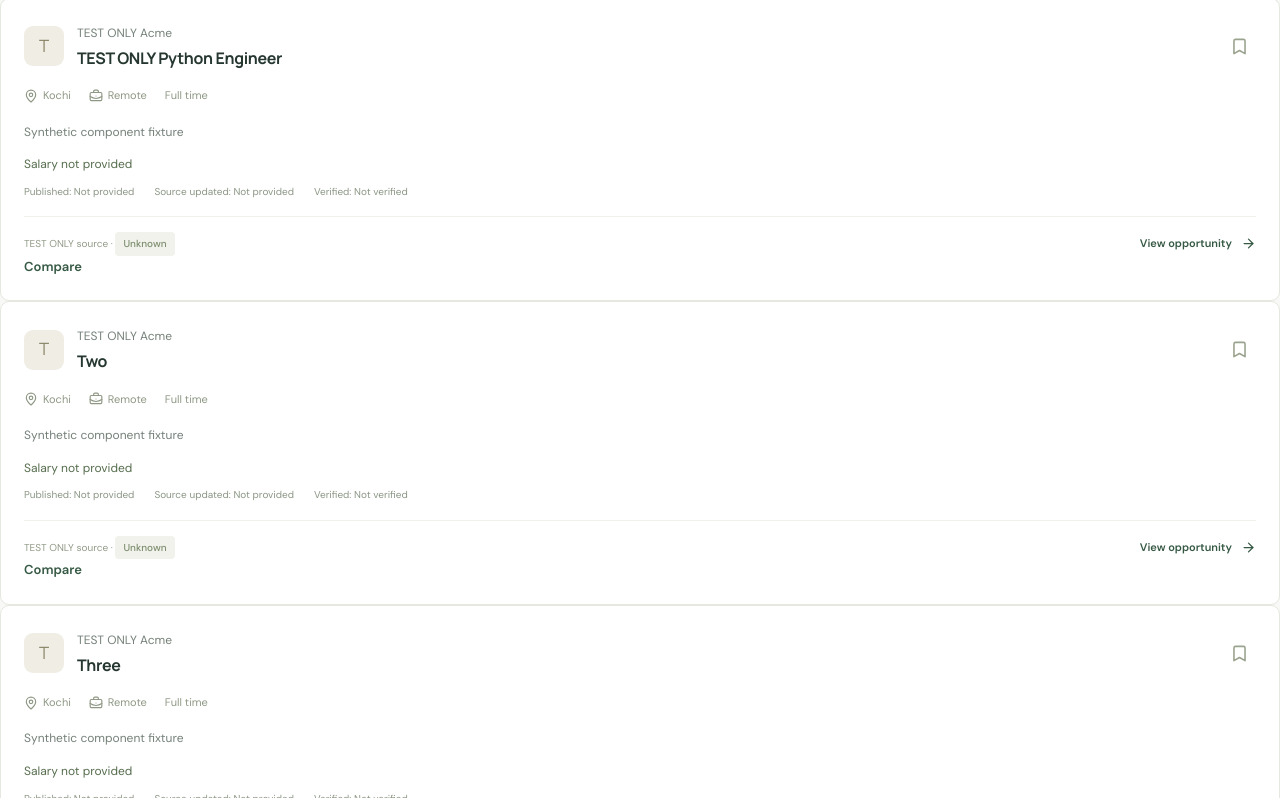
it: Phase 4 discovery with explicitly mocked HTTP › selects a bounded comparison and can clear it
Click the button "Compare" below "TEST ONLY Python Engineer".
click(53, 267)  # box [24, 257, 82, 277]
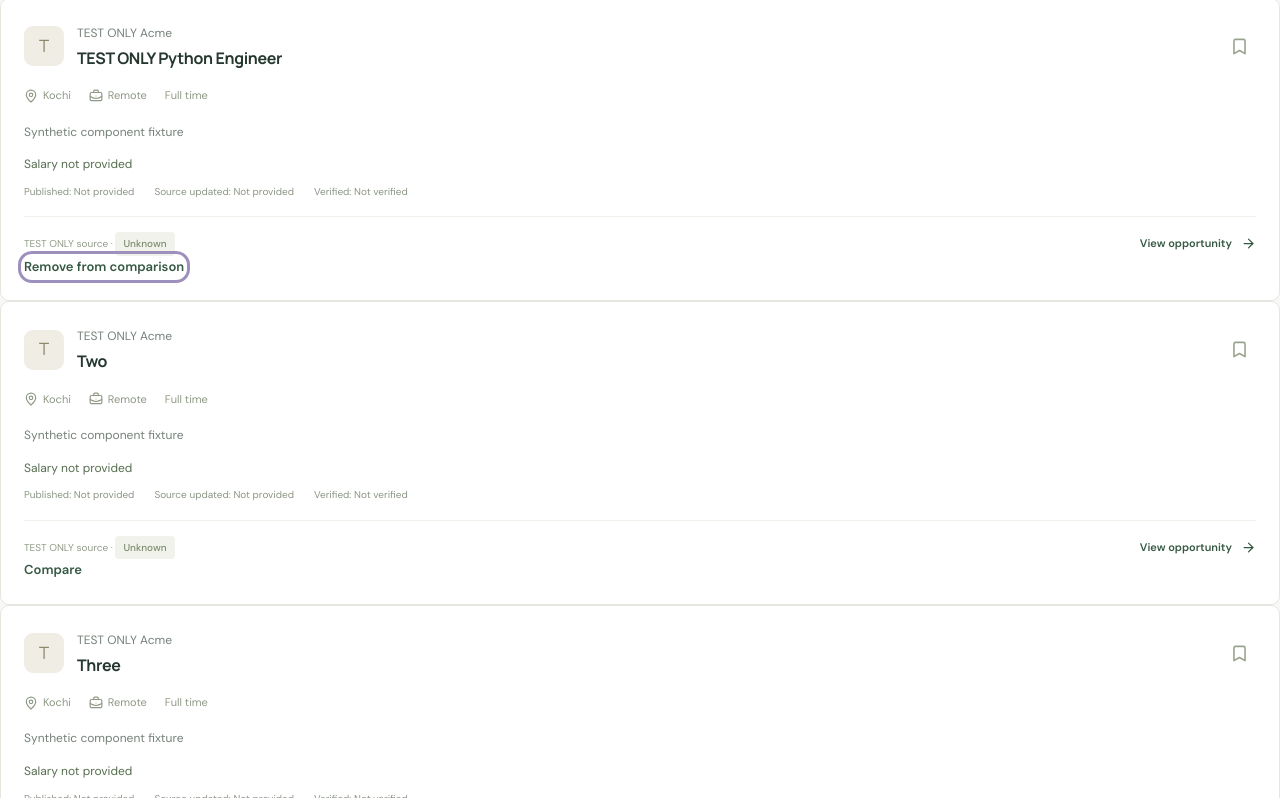
Click the button named "Compare Two".
click(53, 570)  # box [24, 560, 82, 580]
(page scrolled)
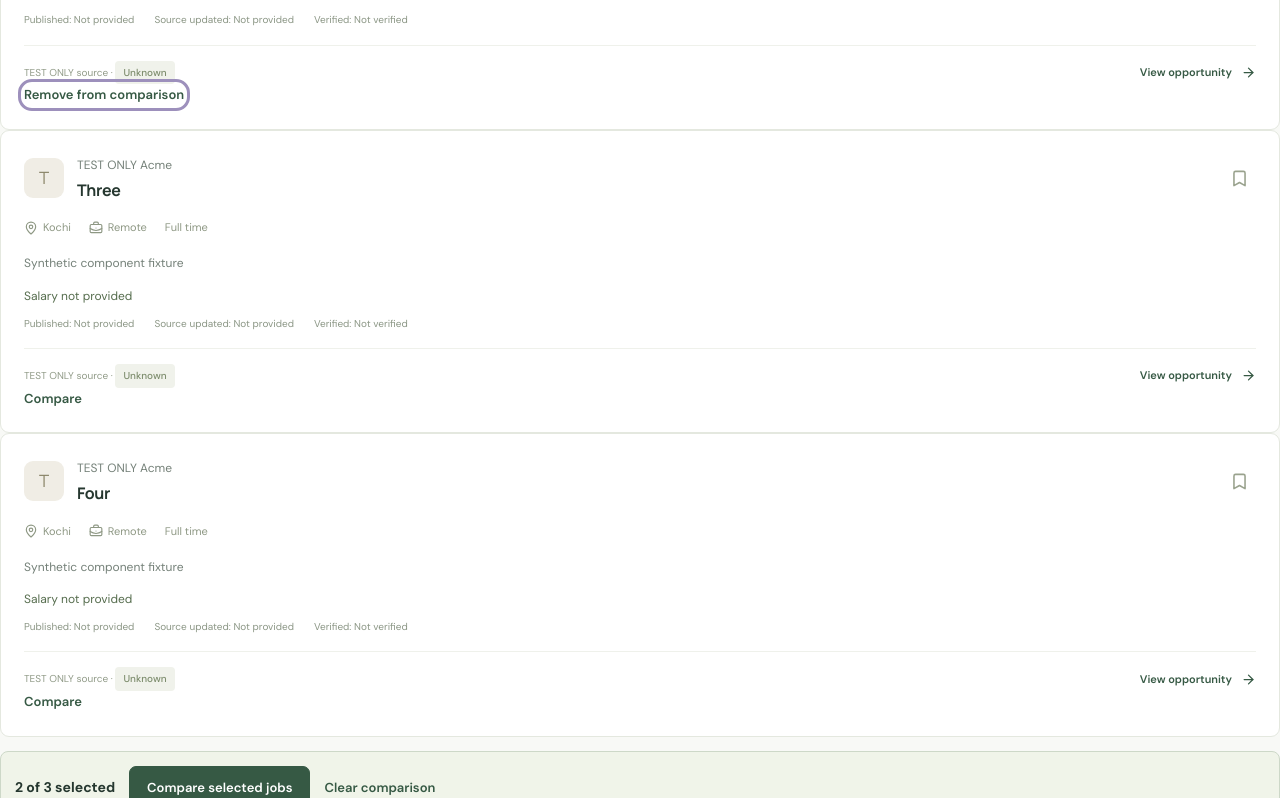
Click the button named "Compare Three".
click(53, 399)  # box [24, 388, 82, 409]
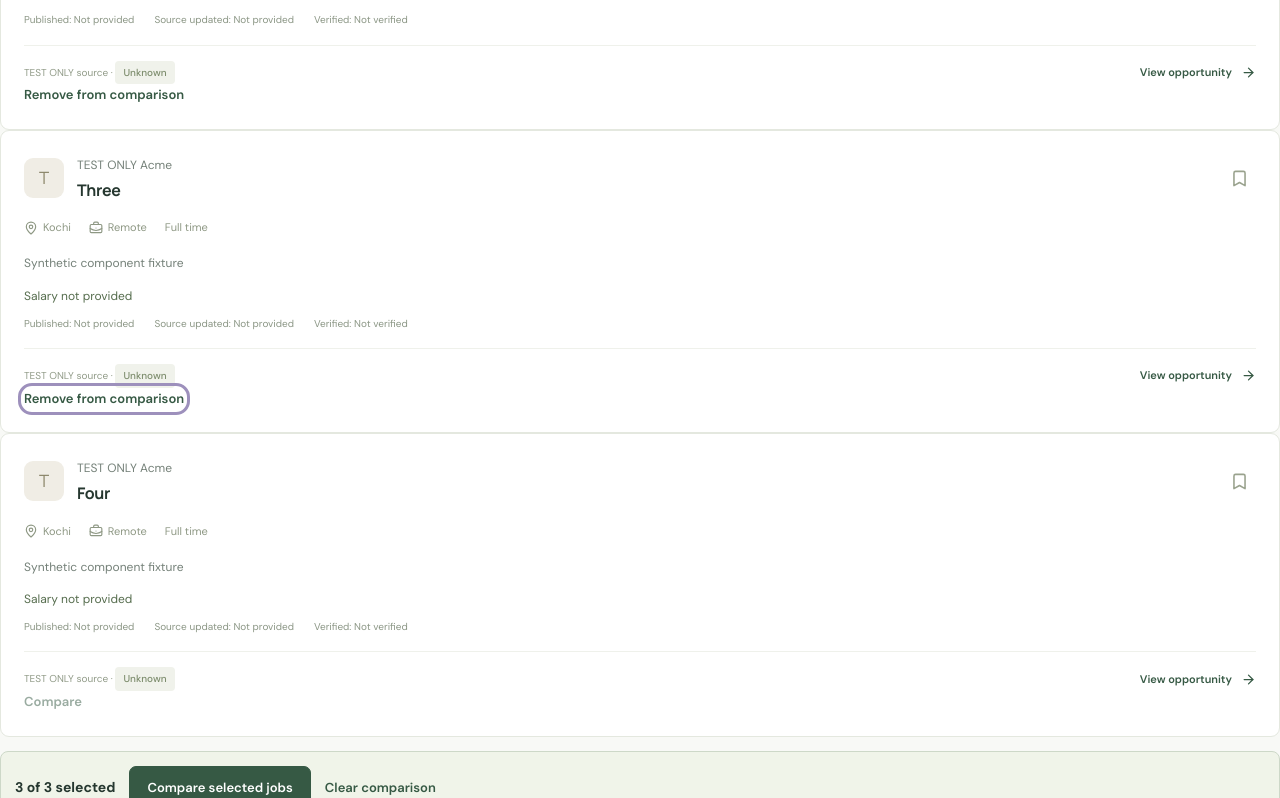
Expected: the button named "Compare Four" is disabled, [24, 692, 82, 712]
Expected: the text "3 of 3 selected" is shown, [15, 777, 115, 797]
Click the button "Clear comparison".
click(380, 788)  # box [325, 778, 436, 797]
(page scrolled)
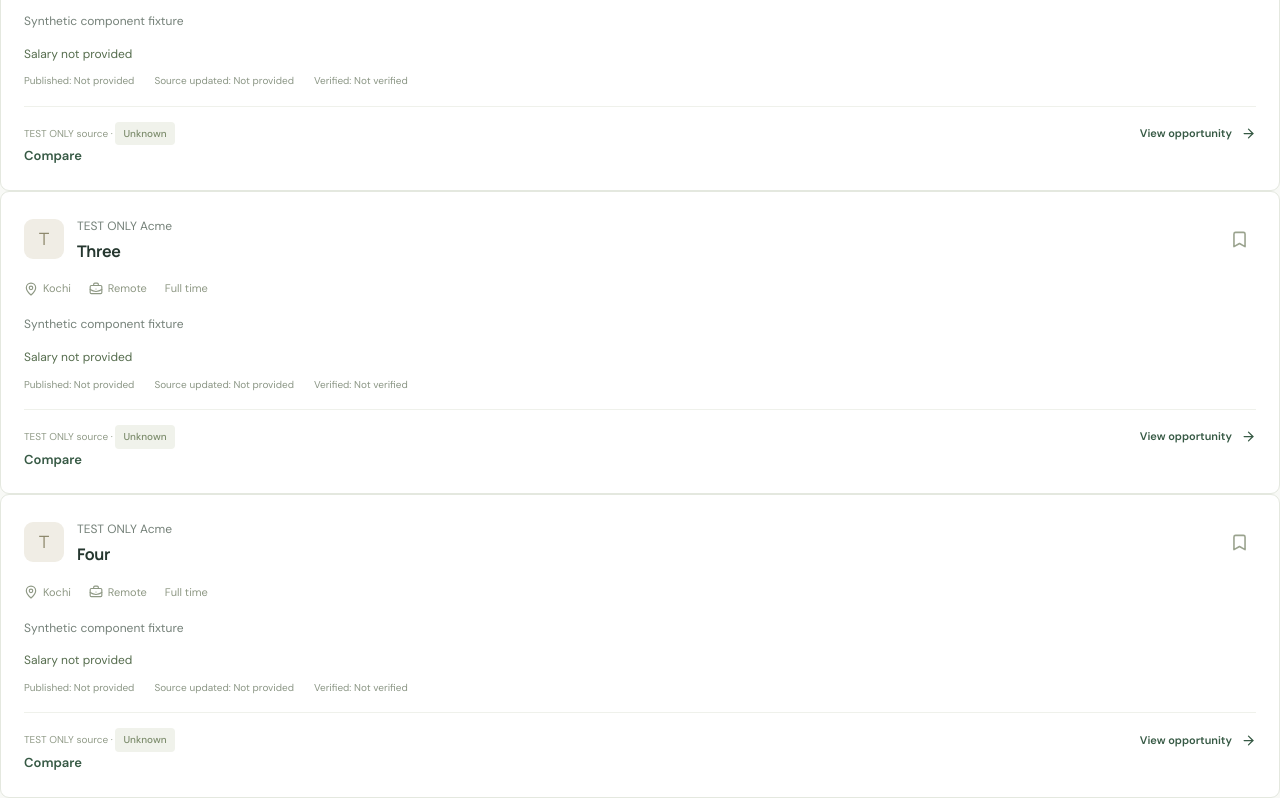
Expected: the text "3 of 3 selected" is gone
